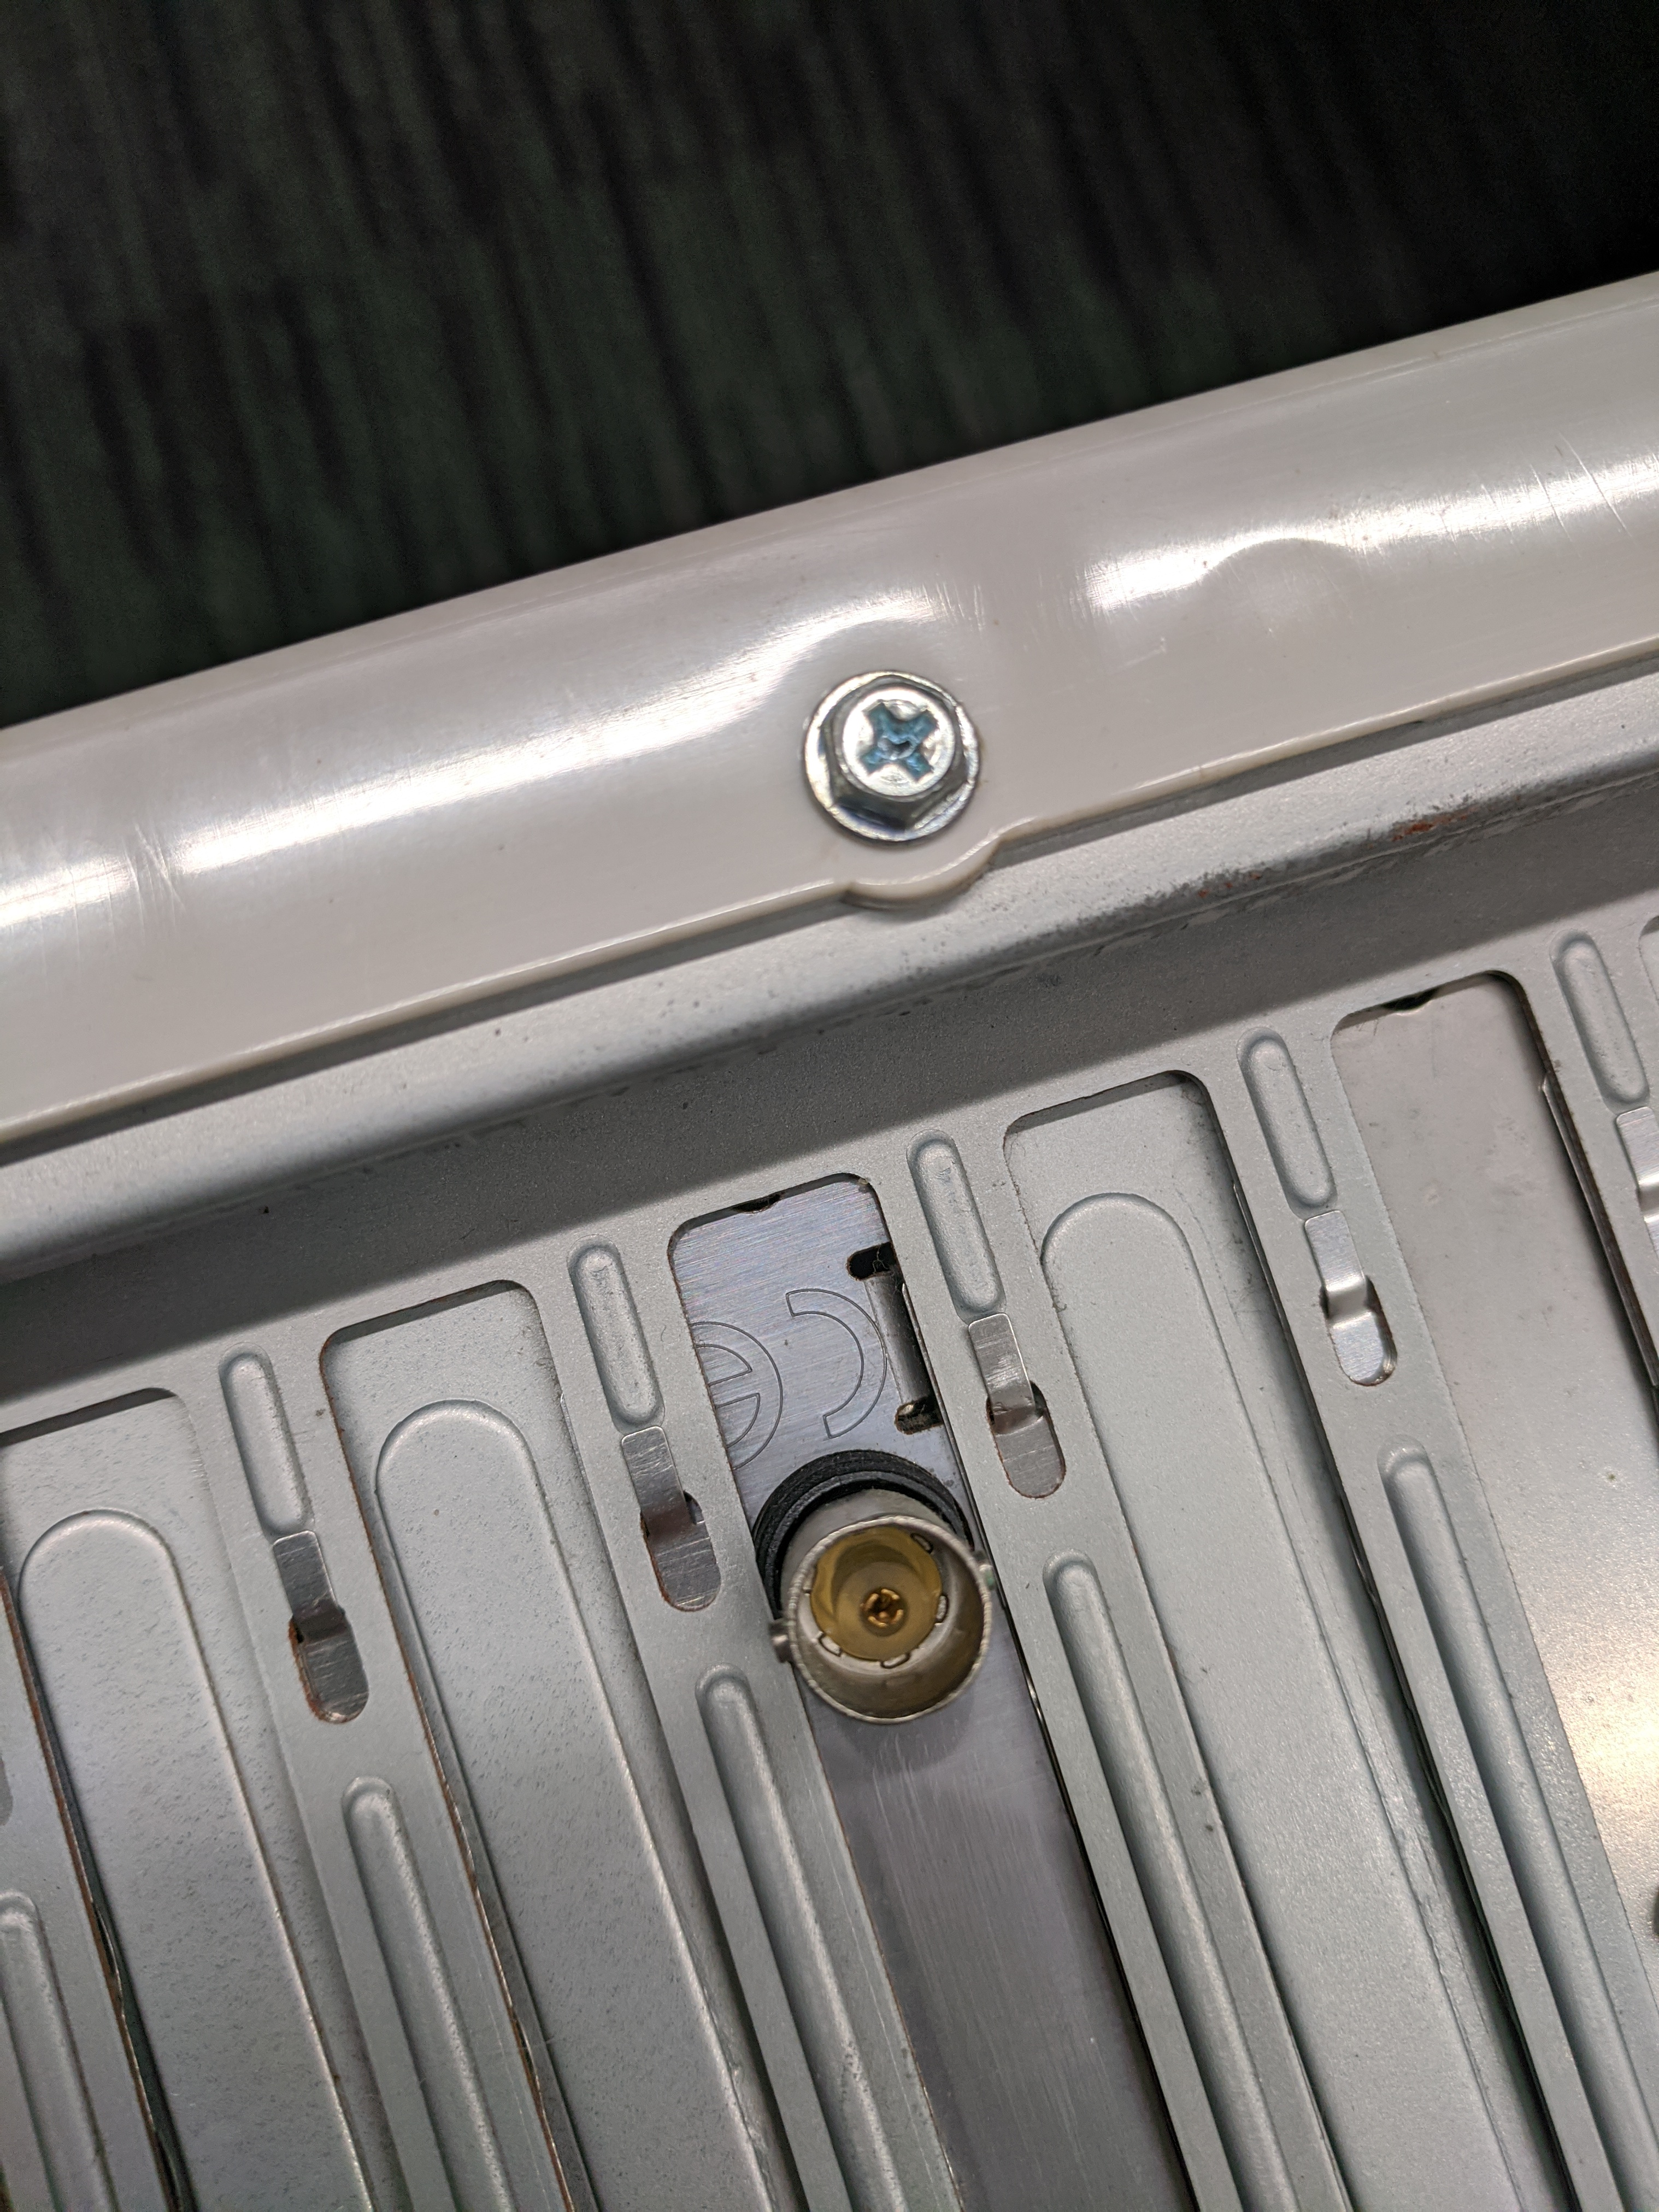cross_recessed_screw: (819, 671, 967, 820)
